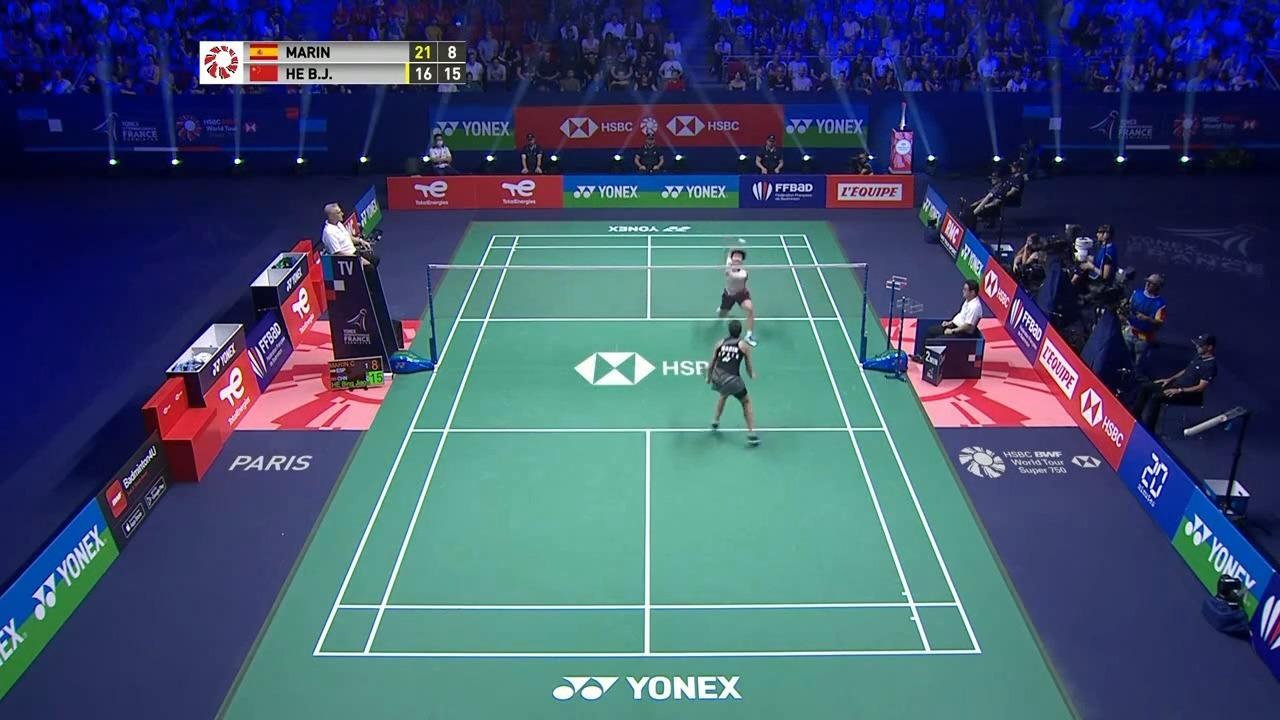shuttle: (737, 237, 750, 245)
